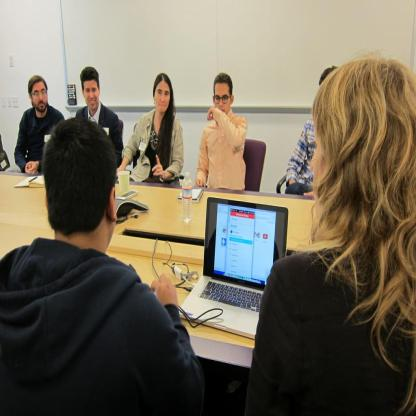board: (200, 200, 285, 322), (182, 172, 192, 223), (118, 168, 132, 194)
